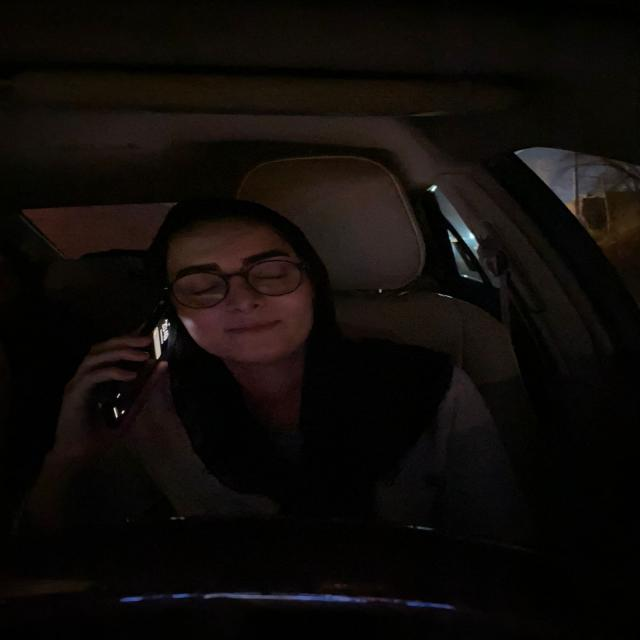mobile: (106, 314, 164, 413)
person: (156, 206, 334, 360)
